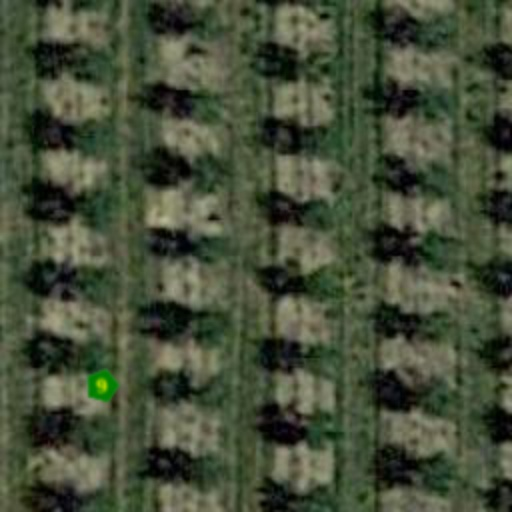pentagon: (82, 366, 122, 406)
